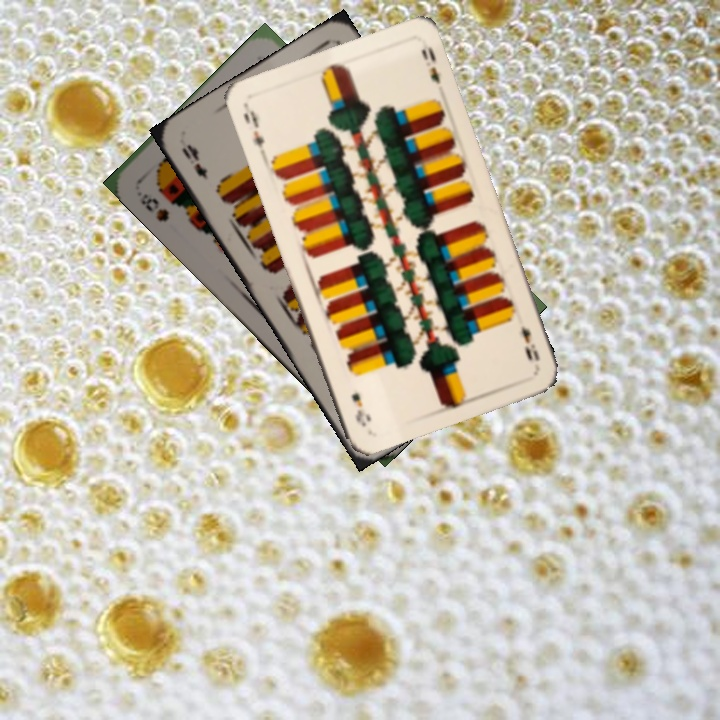E9: (239, 105, 269, 158), (177, 140, 211, 182), (516, 322, 543, 364)
S8: (136, 189, 172, 225)
